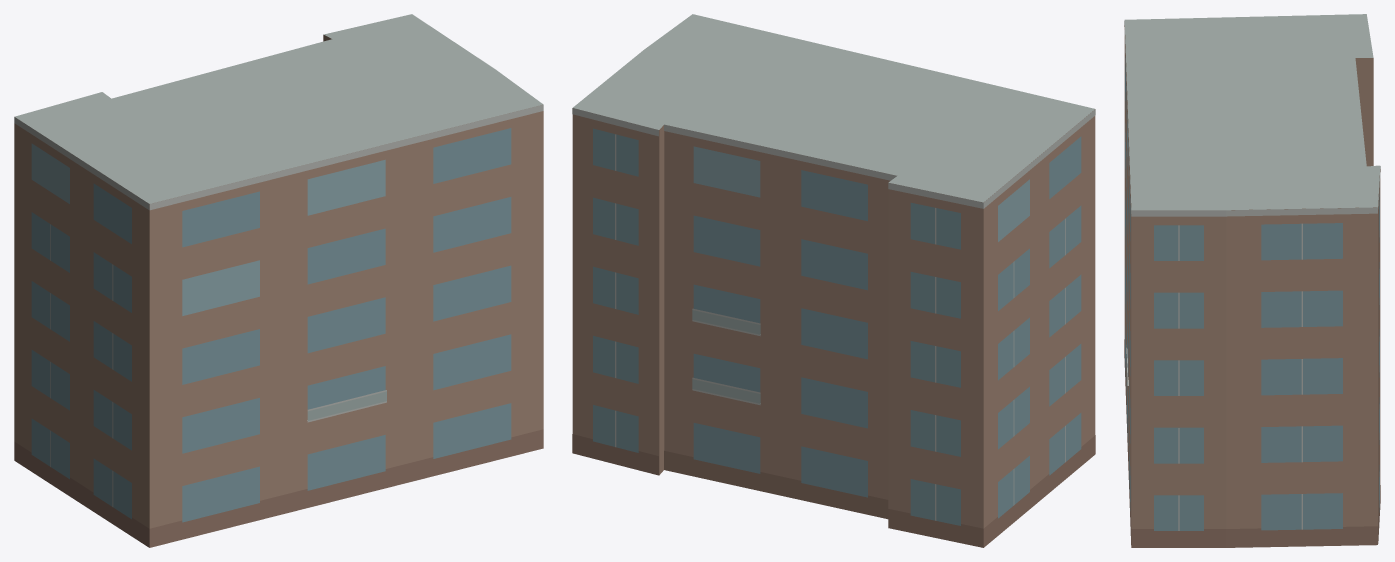
The model's file is survey-upis-32457056.glb.
3 views of the same model, side by side, from view 1: azimuth 30°, elevation 25°; view 2: azimuth 150°, elevation 25°; view 3: azimuth 270°, elevation 25° (orthographic). The views are drawn at different scales.
Parts seen in each view (by area): view 1: survey-upis-32457056.tmp; view 2: survey-upis-32457056.tmp; view 3: survey-upis-32457056.tmp.
Boxes of the visible parts, x1,y1,x2,y2 form: survey-upis-32457056.tmp: [14, 14, 543, 547]; survey-upis-32457056.tmp: [572, 14, 1095, 547]; survey-upis-32457056.tmp: [1124, 14, 1380, 547].
Size of the model in its own units: 16.34 by 13.1 by 9.
